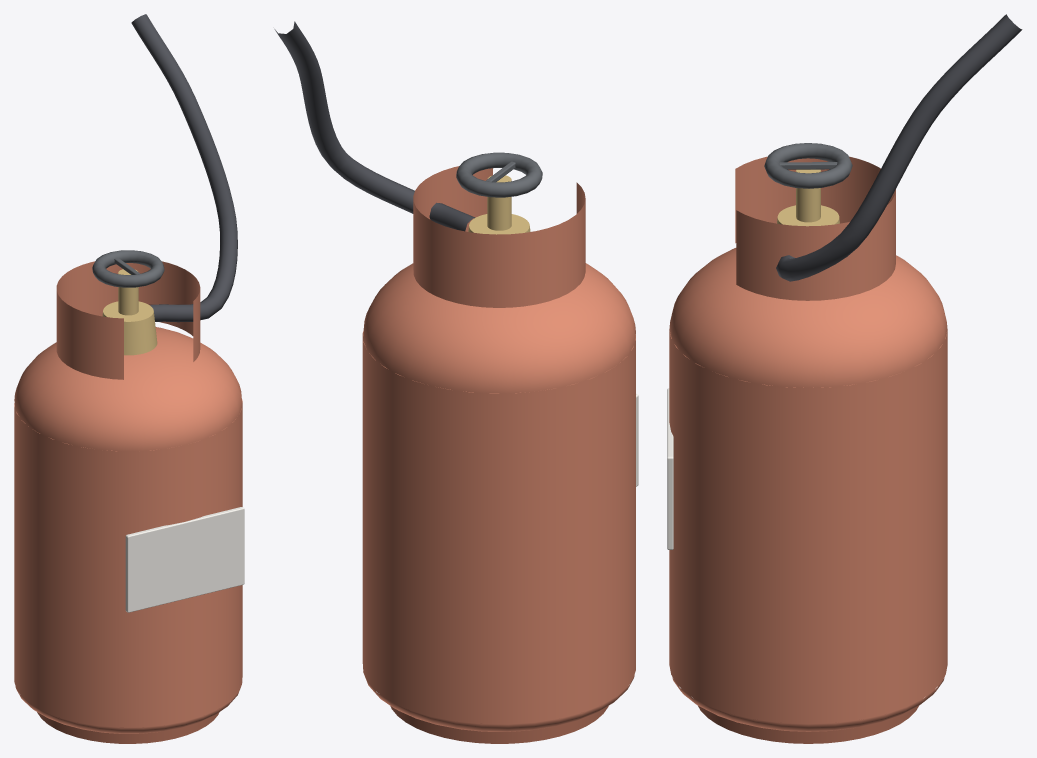
The model's file is canister.glb.
3 views of the same model, side by side, from view 1: azimuth 30°, elevation 25°; view 2: azimuth 150°, elevation 25°; view 3: azimuth 270°, elevation 25° (orthographic). The views are drawn at different scales.
Visible parts, largest first — view 1: canister; view 2: canister; view 3: canister.
Boxes of the visible parts, x1,y1,x2,y2 form: canister: [14, 14, 244, 743]; canister: [274, 21, 638, 743]; canister: [667, 14, 1022, 743].
Size of the model in its own units: 0.3103 by 0.7911 by 0.3449.
